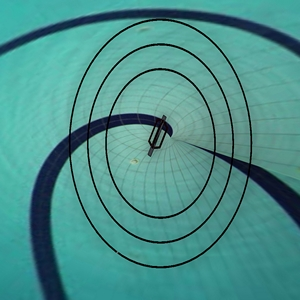circle: (64, 9, 273, 286)
submarine: (133, 108, 179, 162)
